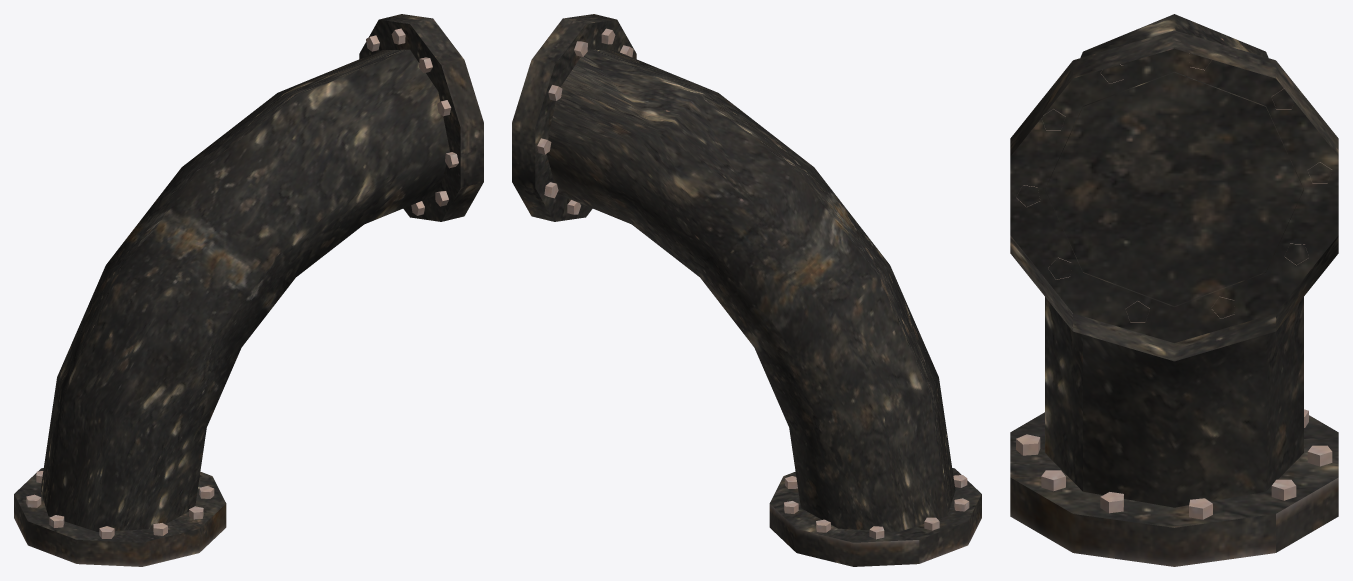
The model's file is kulmaputki.FBX.
3 renders of one model, left to right at view 1: azimuth 30°, elevation 25°; view 2: azimuth 150°, elevation 25°; view 3: azimuth 270°, elevation 25°, orthographic. The views are drawn at different scales.
Visible parts, largest first — view 1: putkikulma; view 2: putkikulma; view 3: putkikulma.
Boxes of the visible parts, box(x1,y1,x2,y2) form: putkikulma: box(14, 14, 483, 566); putkikulma: box(512, 14, 981, 566); putkikulma: box(1010, 14, 1338, 566).
Size of the model in its own units: 69.09 by 69.72 by 29.95.
1 material, 1 textured.
